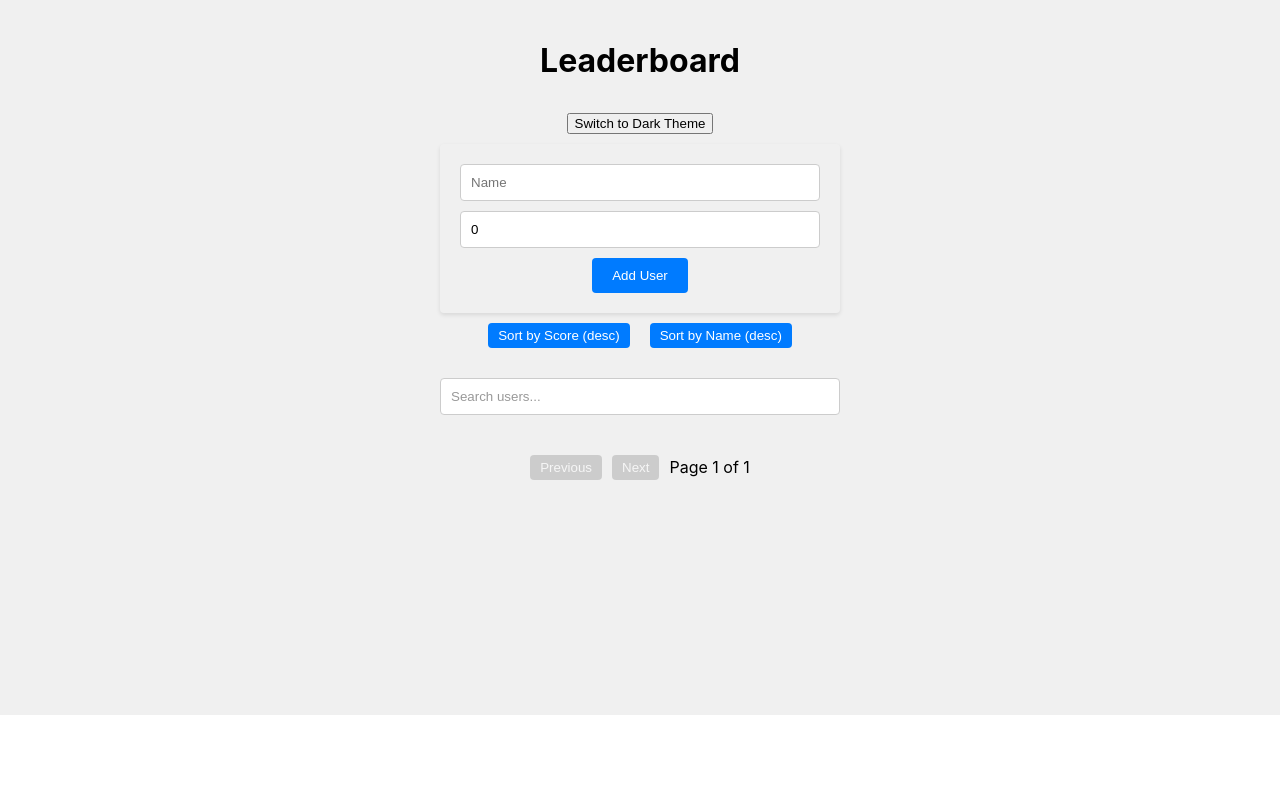
Test: Leaderboard Page › adds a user to the leaderboard
Type "Alice" into the field with placeholder "Name" at (640, 182), box [460,164,820,201]
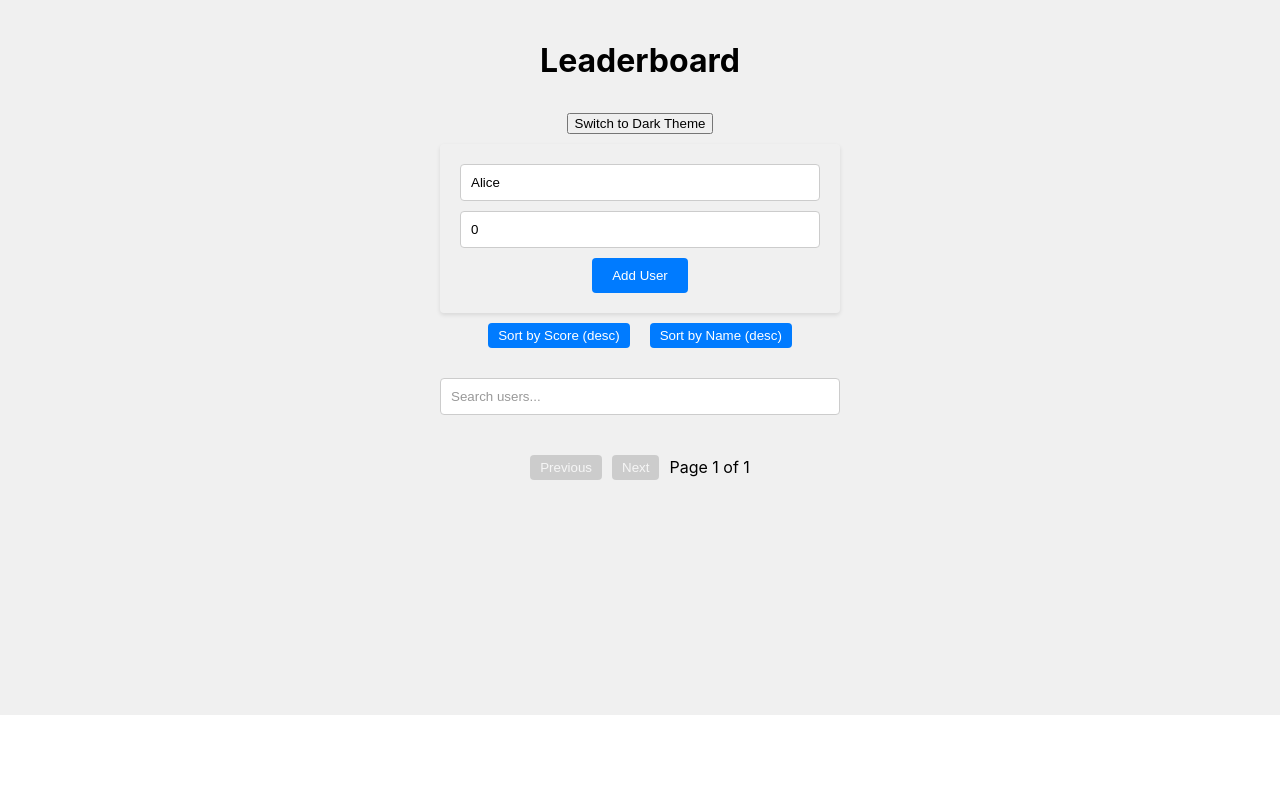
Replace the text in the number field with placeholder "Score" with "100" at (640, 229), box [460,211,820,248]
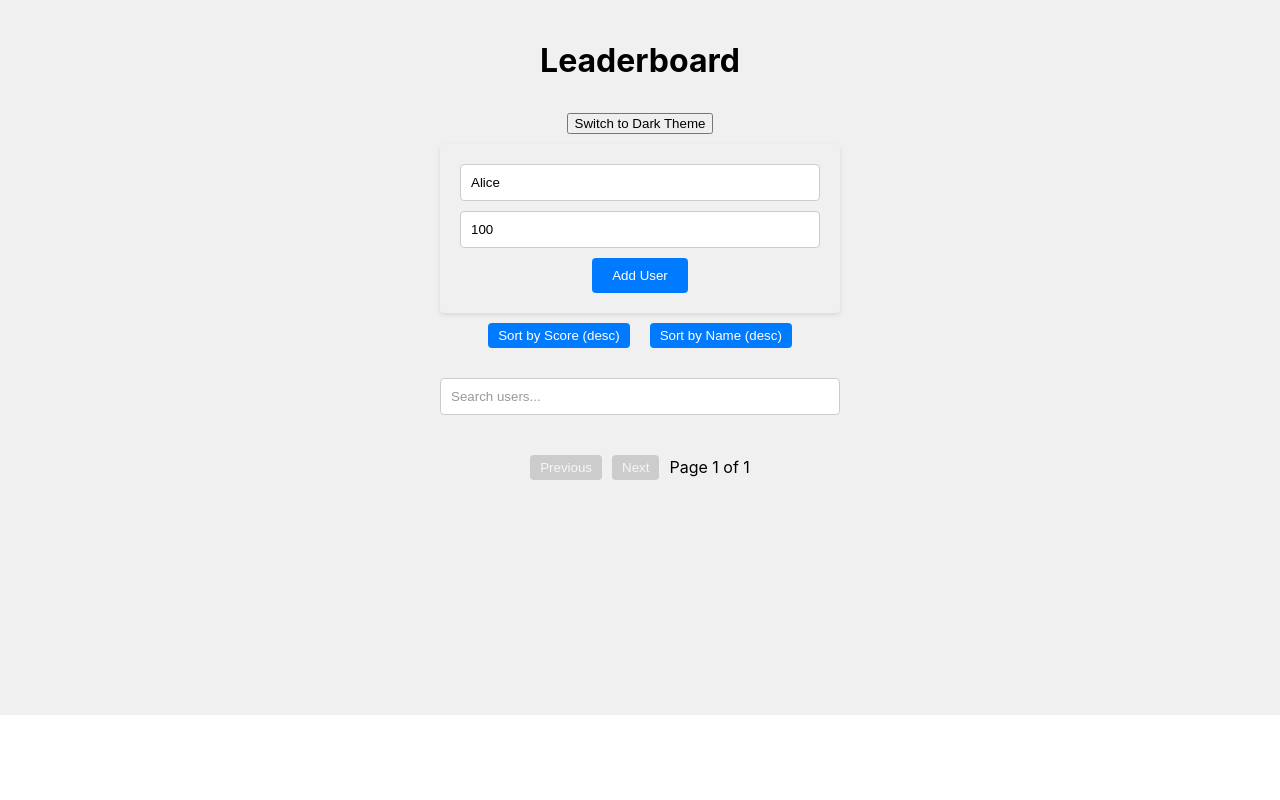
Click the button "Add User" at (640, 275), box [592,258,688,293]
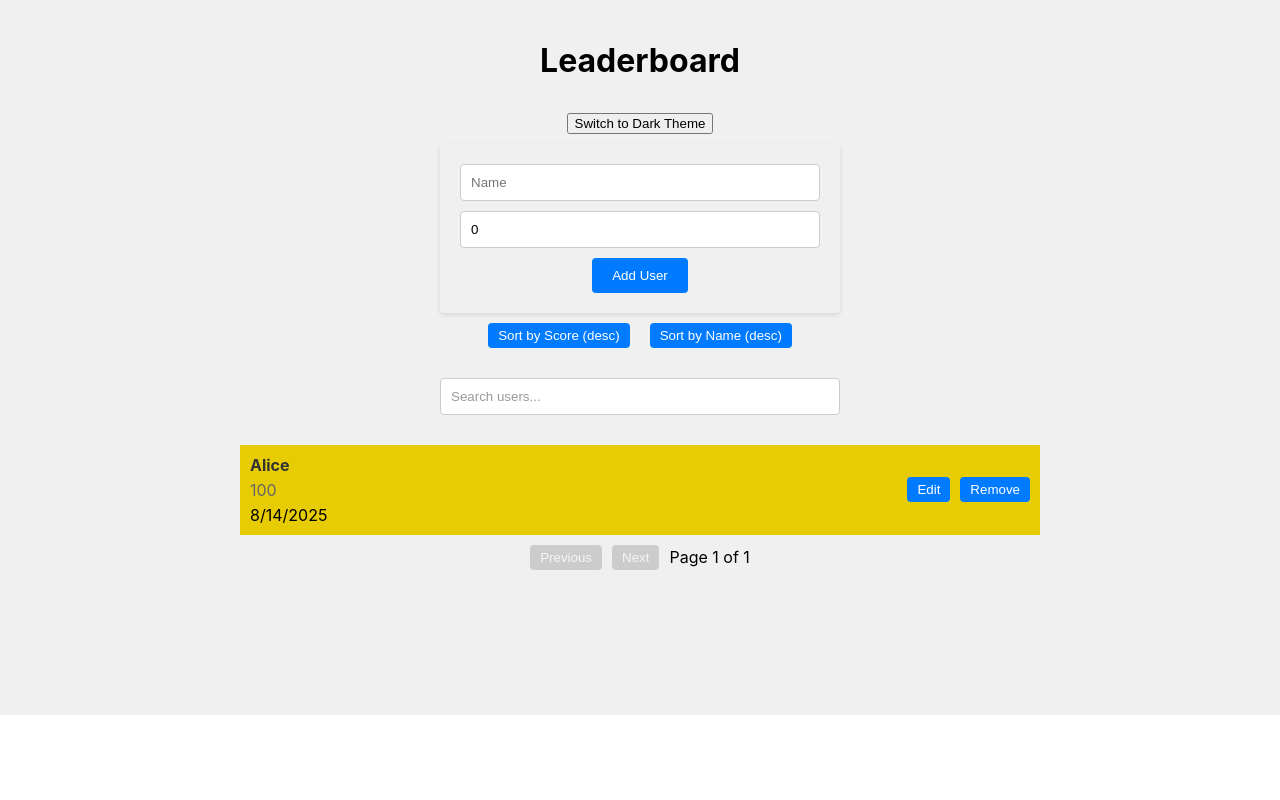
Now the text "Alice" is shown, box [250,455,290,475]
Now the text "100" is shown, box [250,480,277,500]
